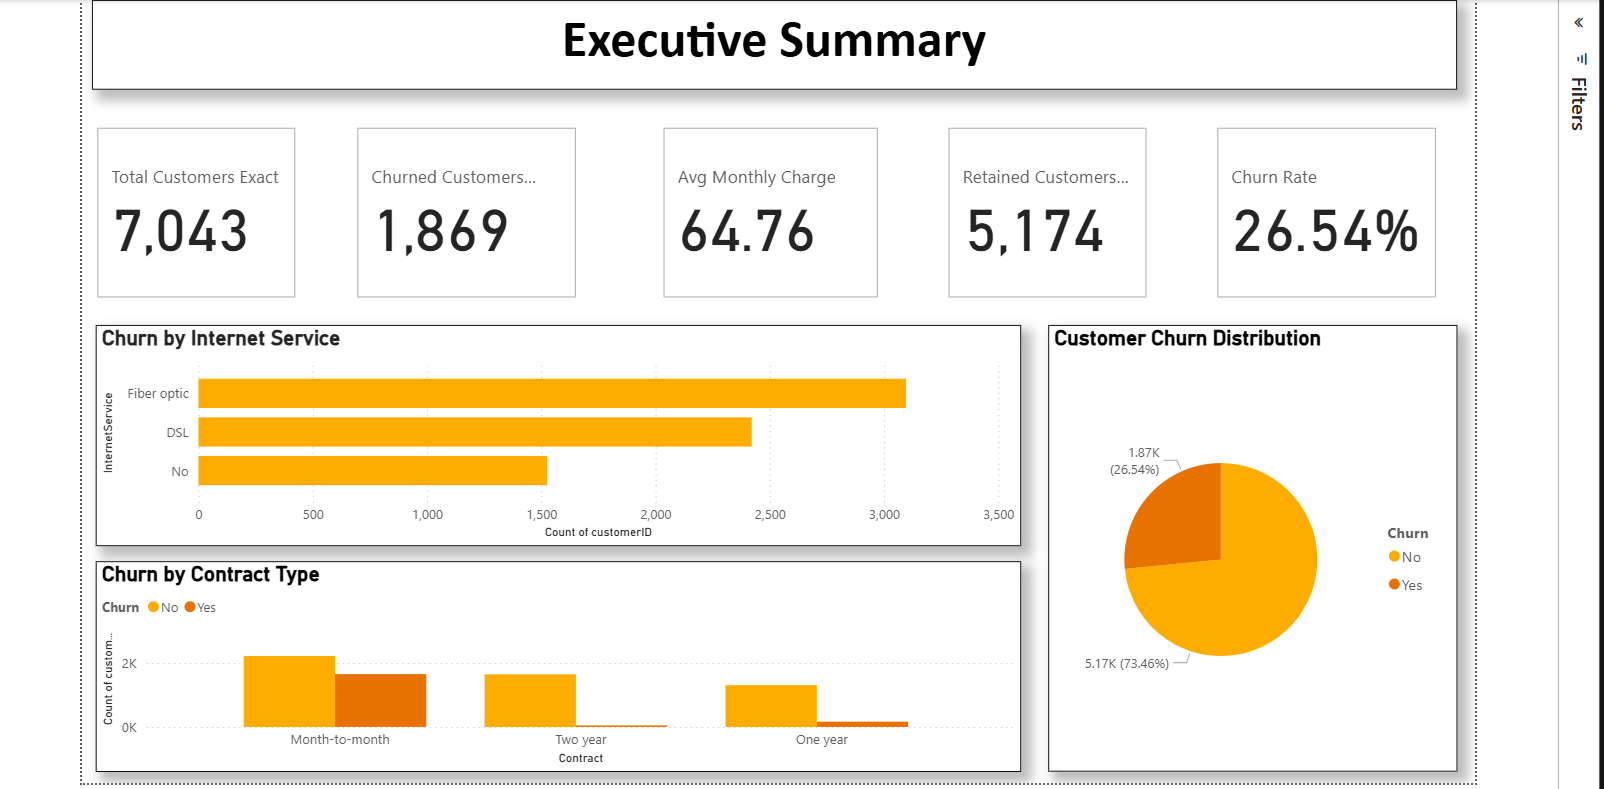

The page's visual inventory and layout, read from the dashboard file:
{"tool":"powerbi","page":{"name":"Page 5","canvas":[1280,720],"ordinal":4},"visuals":[{"type":"textbox","box":[9.6,0,1254.2,82.3],"z":0},{"type":"cardVisual","fields":{"Data":["Churn_CSV.Total Customers Exact"]},"box":[9.6,112.5,192.1,166],"z":1000},{"type":"cardVisual","fields":{"Data":["Churn_CSV.Retained Customers Exact"]},"box":[791.8,112.5,192.1,166],"z":1001},{"type":"cardVisual","fields":{"Data":["Churn_CSV.Avg Monthly Charge"]},"box":[529.7,112.5,207.2,166],"z":1002},{"type":"cardVisual","fields":{"Data":["Churn_CSV.Churned Customers Exact"]},"box":[248.4,112.5,211.3,166],"z":1003},{"type":"cardVisual","fields":{"Data":["Churn_CSV.Churn Rate"]},"box":[1038.8,112.5,211.3,166],"z":1004},{"type":"pieChart","title":"Customer Churn Distribution","fields":{"Category":["Churn_CSV.Churn"],"Y":["CountNonNull(Churn_CSV.customerID)"]},"box":[887.8,299.1,376,410.3],"z":1005},{"type":"clusteredBarChart","title":"Churn by Internet Service","fields":{"Y":["CountNonNull(Churn_CSV.customerID)"],"Category":["Churn_CSV.InternetService"]},"box":[12.3,299.1,850.8,203.1],"z":1006},{"type":"clusteredColumnChart","title":"Churn by Contract Type","fields":{"Category":["Churn_CSV.Contract"],"Y":["CountNonNull(Churn_CSV.customerID)"],"Series":["Churn_CSV.Churn"]},"box":[12.3,516,850.8,193.5],"z":1007}]}

Visuals, with their boxes on the page's 1280x720 design canvas (x1, y1, x2, y2). These are canvas units, not pixel positions in the 1604x789 screenshot, which may show the page scaled, cropped or inside an application window:
textbox: crop(10, 0, 1264, 82)
cardVisual - Churn_CSV.Total Customers Exact: crop(10, 112, 202, 278)
cardVisual - Churn_CSV.Retained Customers Exact: crop(792, 112, 984, 278)
cardVisual - Churn_CSV.Avg Monthly Charge: crop(530, 112, 737, 278)
cardVisual - Churn_CSV.Churned Customers Exact: crop(248, 112, 460, 278)
cardVisual - Churn_CSV.Churn Rate: crop(1039, 112, 1250, 278)
"Customer Churn Distribution" pieChart: crop(888, 299, 1264, 709)
"Churn by Internet Service" clusteredBarChart: crop(12, 299, 863, 502)
"Churn by Contract Type" clusteredColumnChart: crop(12, 516, 863, 710)
